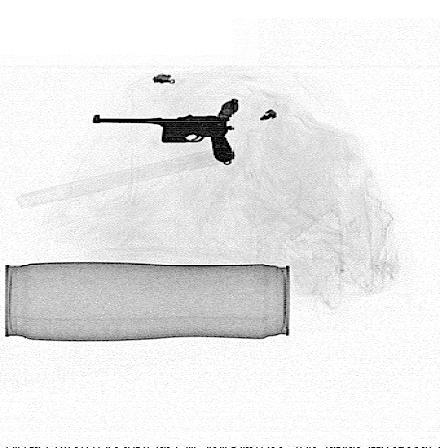Gun: (91, 113, 234, 162)
